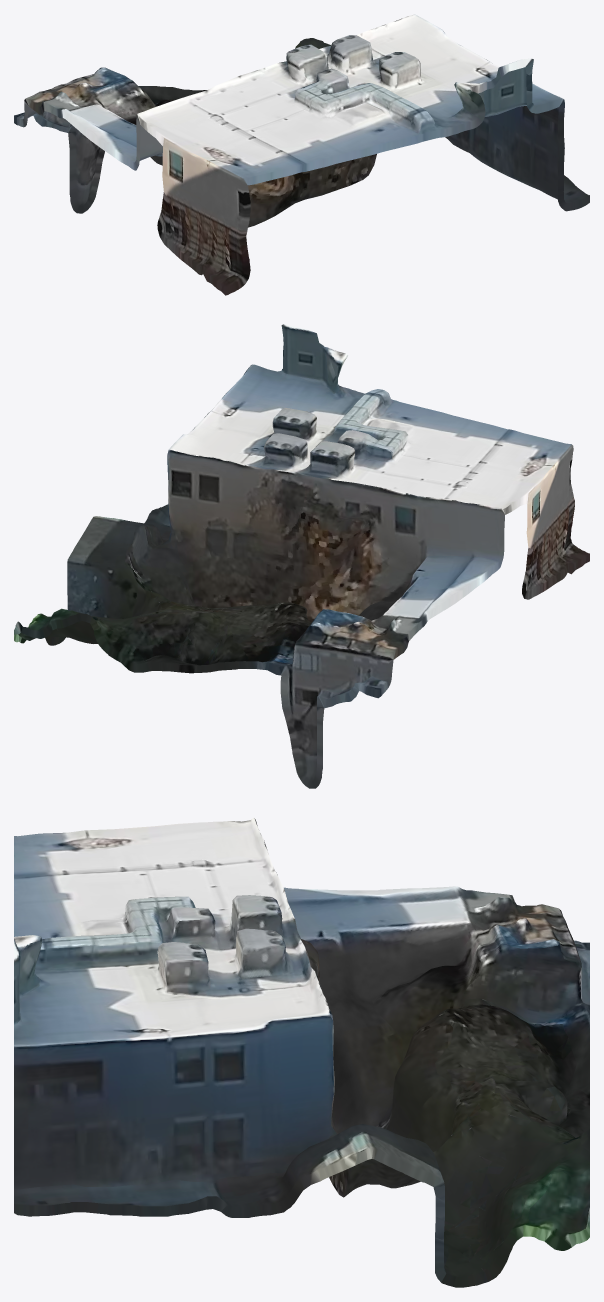
The model's file is z20-167751-405196-h0-yup-uvflip-v3-world.glb.
The picture shows the model from 3 angles, top to bottom: view 1: azimuth 30°, elevation 25°; view 2: azimuth 150°, elevation 25°; view 3: azimuth 270°, elevation 25°; orthographic projection. The views are drawn at different scales.
Bounding box in the file's own units: 30.16 × 19.92 × 30.32.
Materials: 1 (1 with a texture image).
